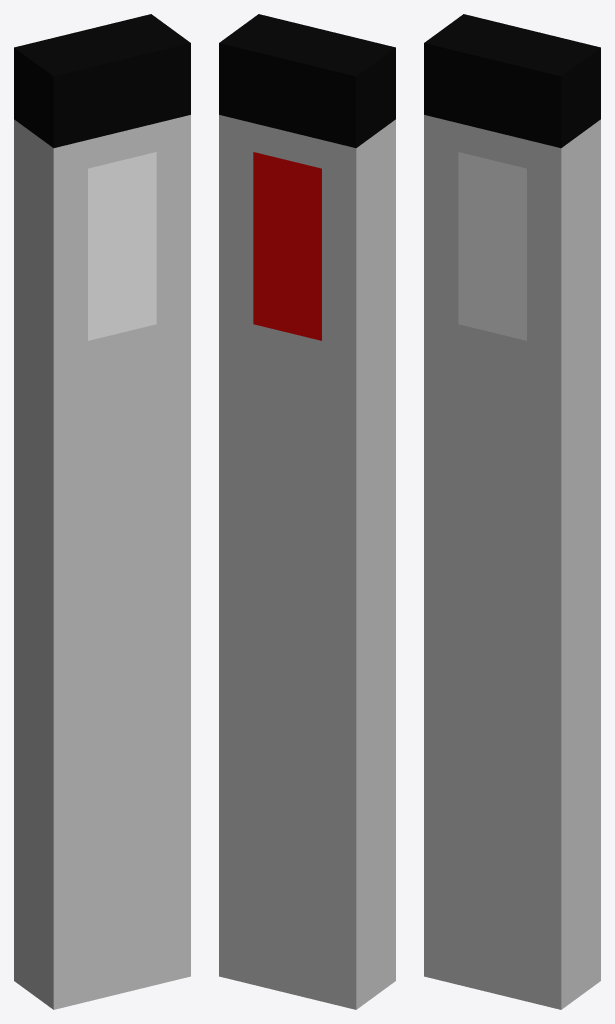
The model's file is body.obj.
3 renders of one model, left to right at view 1: azimuth 30°, elevation 25°; view 2: azimuth 150°, elevation 25°; view 3: azimuth 330°, elevation 25°, orthographic.
Visible parts, largest first — view 1: Mesh1 Model; view 2: Mesh1 Model; view 3: Mesh1 Model.
Part boxes in pixels (bbox=[...]): Mesh1 Model: bbox=[14, 14, 190, 1009]; Mesh1 Model: bbox=[219, 14, 395, 1009]; Mesh1 Model: bbox=[424, 14, 600, 1009].
Bounding box in the file's own units: 0.1 × 0.65 × 0.05.
